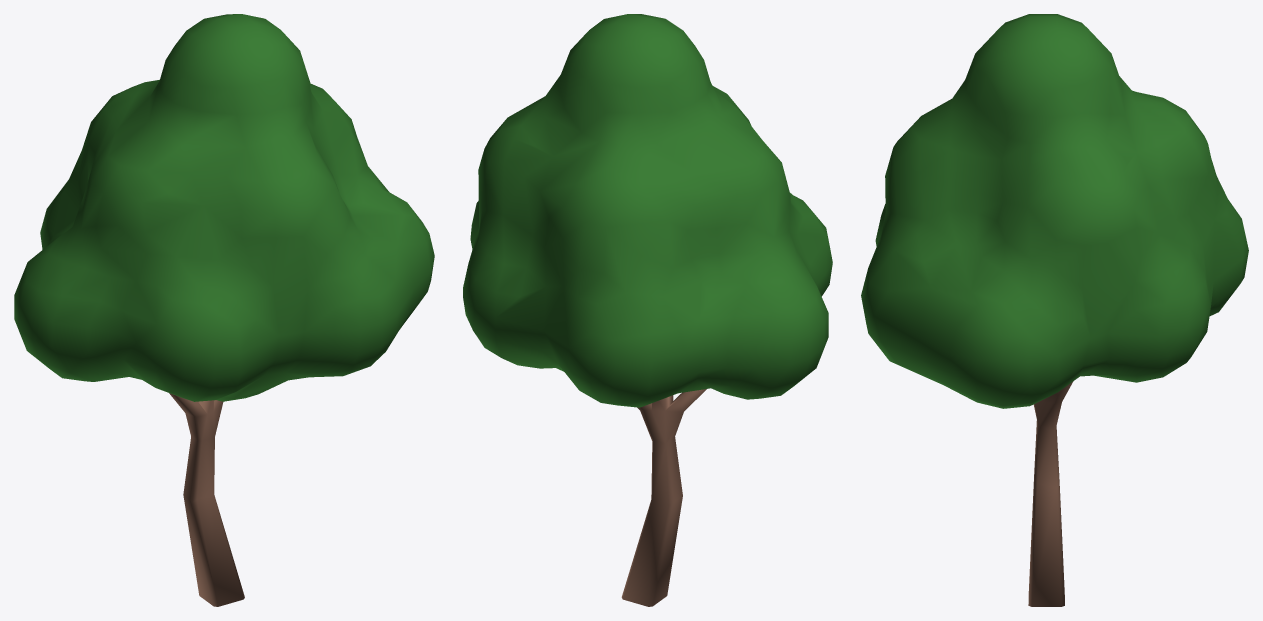
The model's file is tree.fbx.
3 renders of one model, left to right at view 1: azimuth 30°, elevation 25°; view 2: azimuth 150°, elevation 25°; view 3: azimuth 270°, elevation 25°, orthographic. The views are drawn at different scales.
Parts seen in each view (by area): view 1: Tree; view 2: Tree; view 3: Tree.
Part boxes in pixels (left/top/right/bottom): Tree: left=14, top=14, right=434, bottom=606; Tree: left=463, top=14, right=832, bottom=606; Tree: left=861, top=14, right=1248, bottom=606.
Size of the model in its own units: 263 by 235 by 391.
